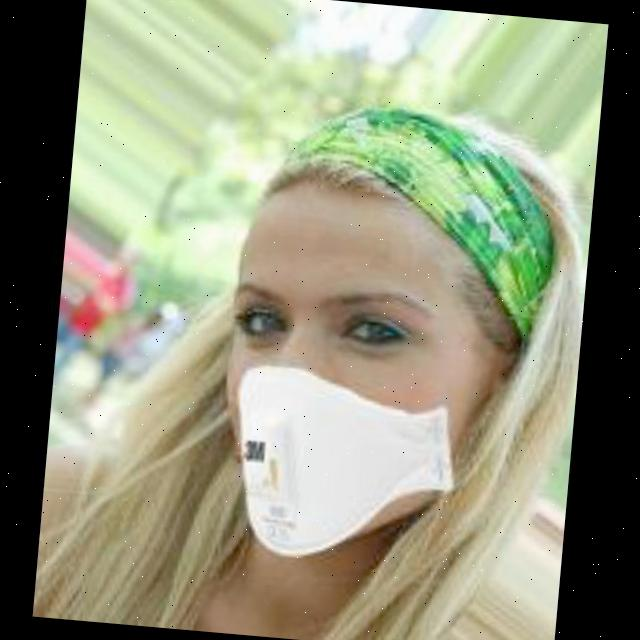suspicion: (212, 107, 524, 563)
